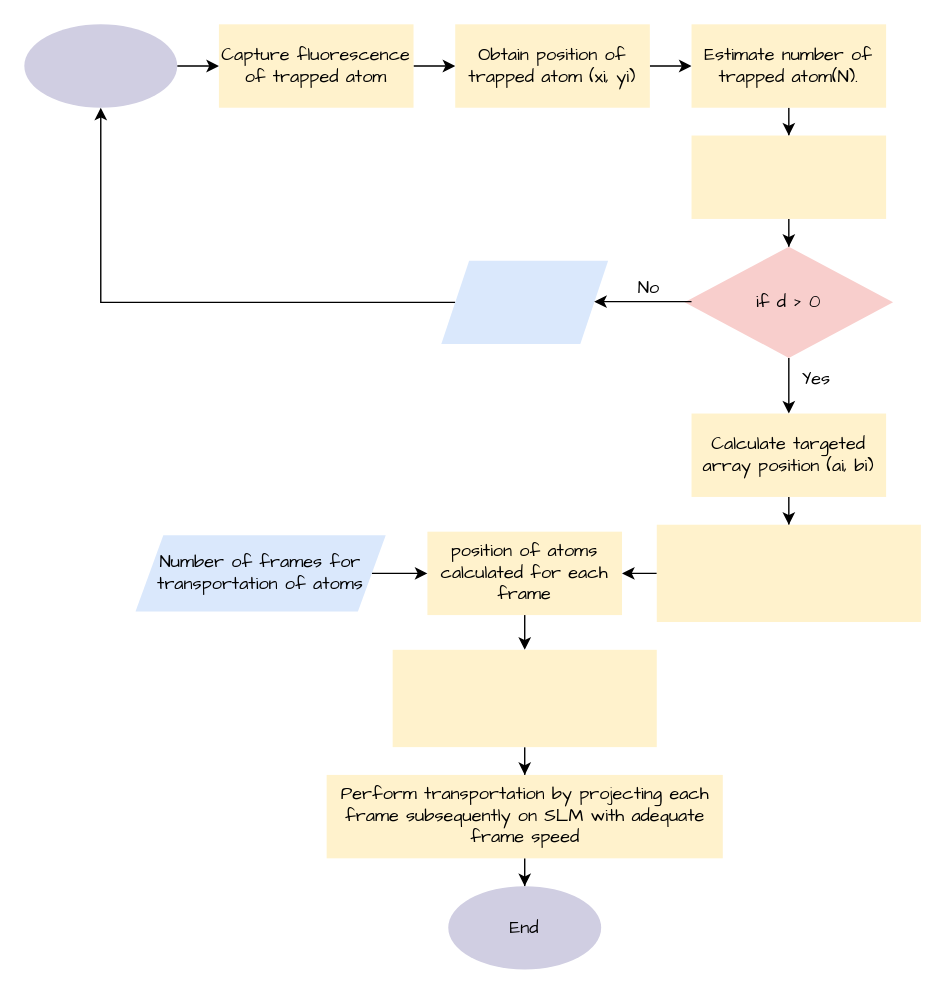
This 944x992 diagram has some shape labels left out. The shapes that lost their labels are listed below. From the top down, each one's centre as x and y in pixels, then its label:
At (100,65): "Start".
At (788,176): "Calculate dimension of defect-free array d = floor(√N)".
At (524,301): "In sufficient atoms".
At (788,572): "Obtain best moves using hungarian algorithm between sets (xi, yi) and (ai, bi)".
At (524,697): "Generate phase-mask corresponding to position of atoms in each frame".
